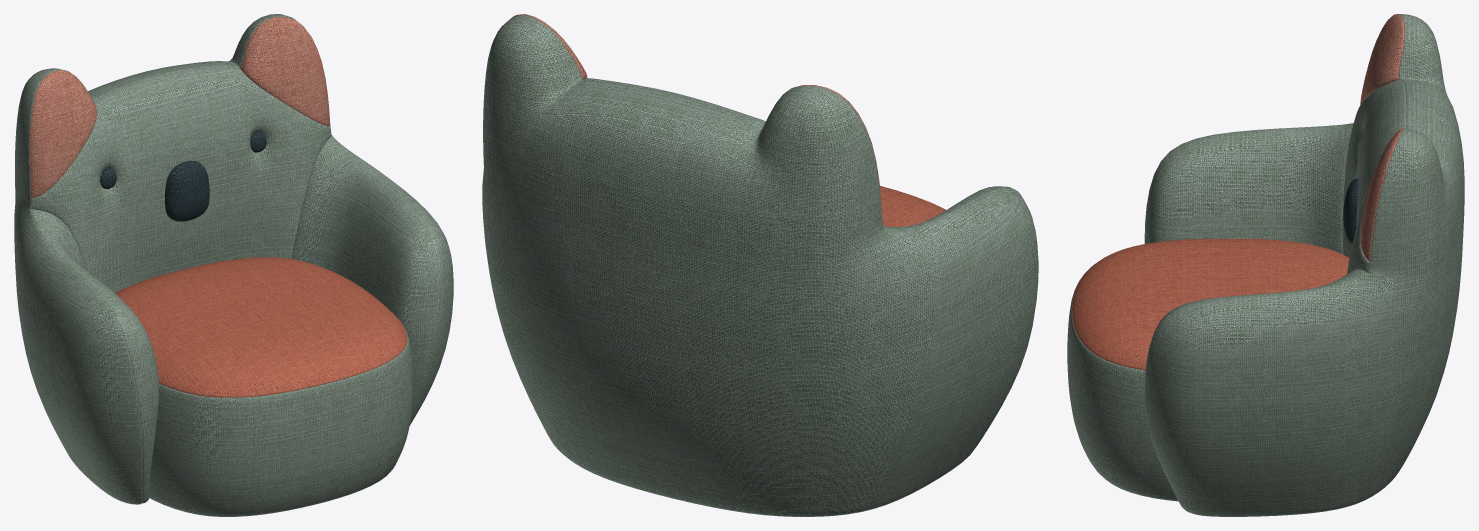
The picture shows the model from 3 angles, left to right: view 1: azimuth 30°, elevation 25°; view 2: azimuth 150°, elevation 25°; view 3: azimuth 270°, elevation 25°; orthographic projection. The views are drawn at different scales.
Parts seen in each view (by area): view 1: Box006_FA_011_0 (×2), Box006_FA_004_0, Box006_FA_003_0, Box006_FA_012_0; view 2: Box006_FA_011_0, Box006_FA_004_0; view 3: Box006_FA_011_0 (×2), Box006_FA_004_0, Box006_FA_003_0, Box006_FA_012_0.
Boxes of the visible parts, <box> form: Box006_FA_011_0 (×2): <box>14,14,453,516</box>; Box006_FA_004_0: <box>115,257,407,397</box>; Box006_FA_003_0: <box>29,17,330,198</box>; Box006_FA_012_0: <box>100,132,266,221</box>; Box006_FA_011_0: <box>482,14,1038,516</box>; Box006_FA_004_0: <box>880,186,945,226</box>; Box006_FA_011_0 (×2): <box>1067,14,1464,516</box>; Box006_FA_004_0: <box>1072,238,1349,370</box>; Box006_FA_003_0: <box>1360,14,1404,261</box>; Box006_FA_012_0: <box>1343,178,1358,243</box>.
Bounding box in the file's own units: 0.7151 × 0.6452 × 0.6248.
5 materials, 5 textured.
